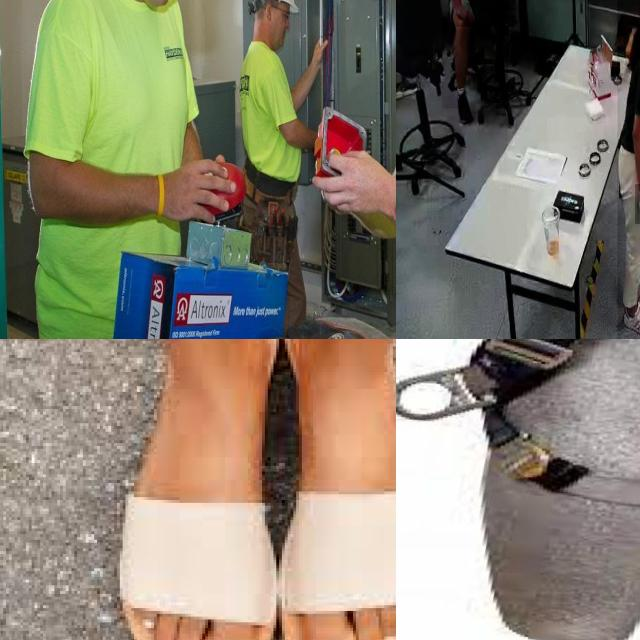Sandals: (119, 339, 275, 640), (282, 339, 396, 640)
hand_glove: (635, 184, 640, 225)
hand_noglove: (452, 0, 474, 27)
person: (617, 0, 640, 339), (442, 0, 509, 109)
shoes: (621, 298, 640, 339)
